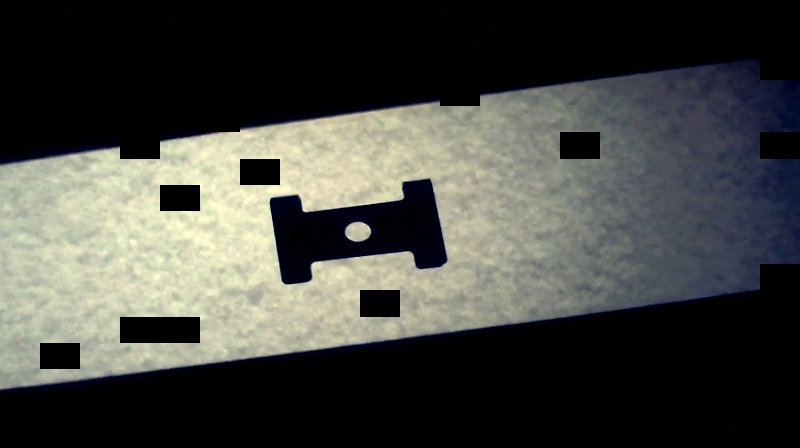O002: (266, 176, 449, 285)
